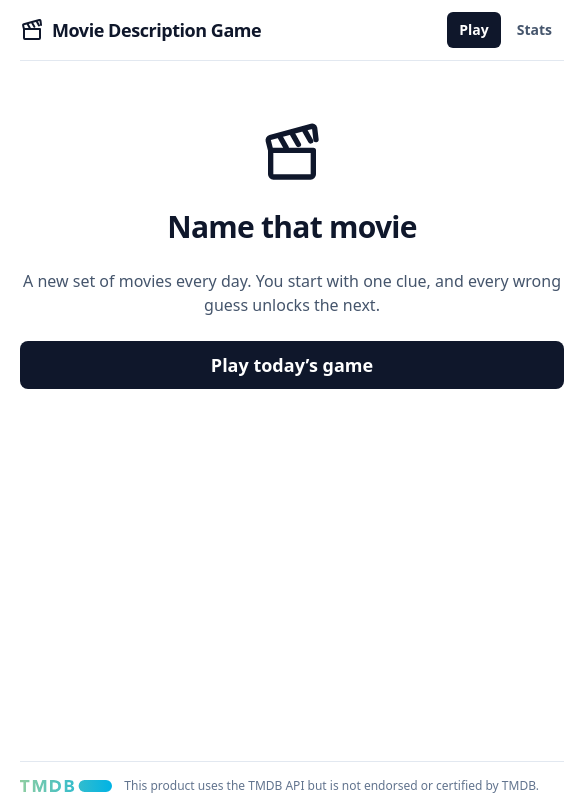
Test: game page › shows a clear error when starting the game fails
The width and height of the screenshot is (585, 810).
Click the button "Play today’s game": coordinates (292, 365) top-left (20, 341), bottom-right (564, 389)
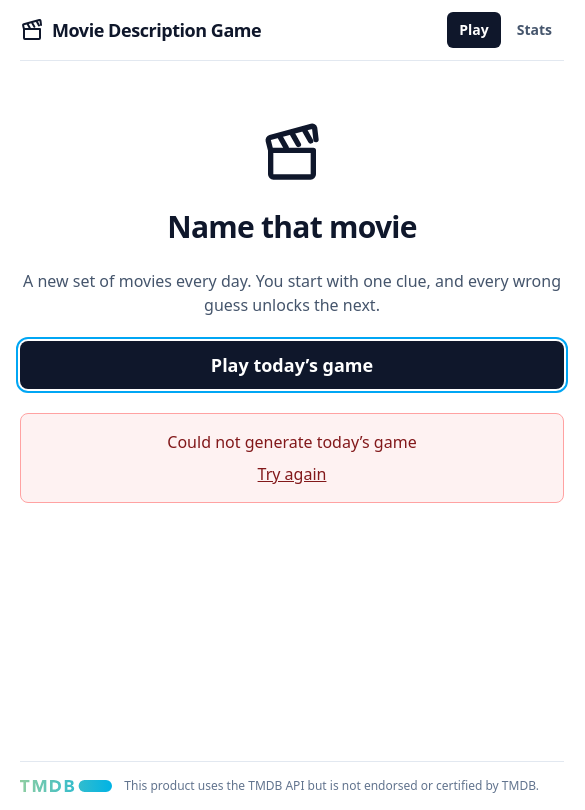
Result: the message shows "Could not generate today’s game" at top-left (167, 431), bottom-right (417, 453)
